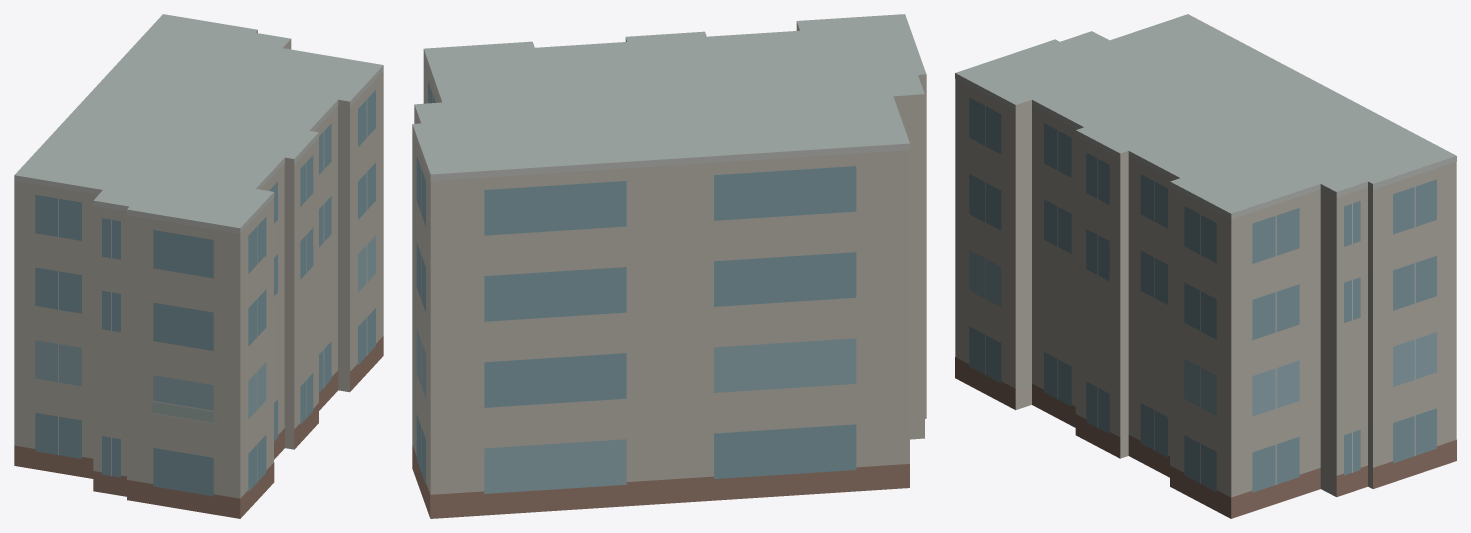
The model's file is survey-upis-32618164.glb.
The picture shows the model from 3 angles, left to right: view 1: azimuth 30°, elevation 25°; view 2: azimuth 150°, elevation 25°; view 3: azimuth 270°, elevation 25°; orthographic projection. The views are drawn at different scales.
Visible parts, largest first — view 1: survey-upis-32618164.tmp; view 2: survey-upis-32618164.tmp; view 3: survey-upis-32618164.tmp.
Boxes of the visible parts, x1,y1,x2,y2 form: survey-upis-32618164.tmp: (14,14,383,518); survey-upis-32618164.tmp: (412,14,926,518); survey-upis-32618164.tmp: (955,14,1456,518).
Size of the model in its own units: 18.27 by 13.01 by 19.39.
